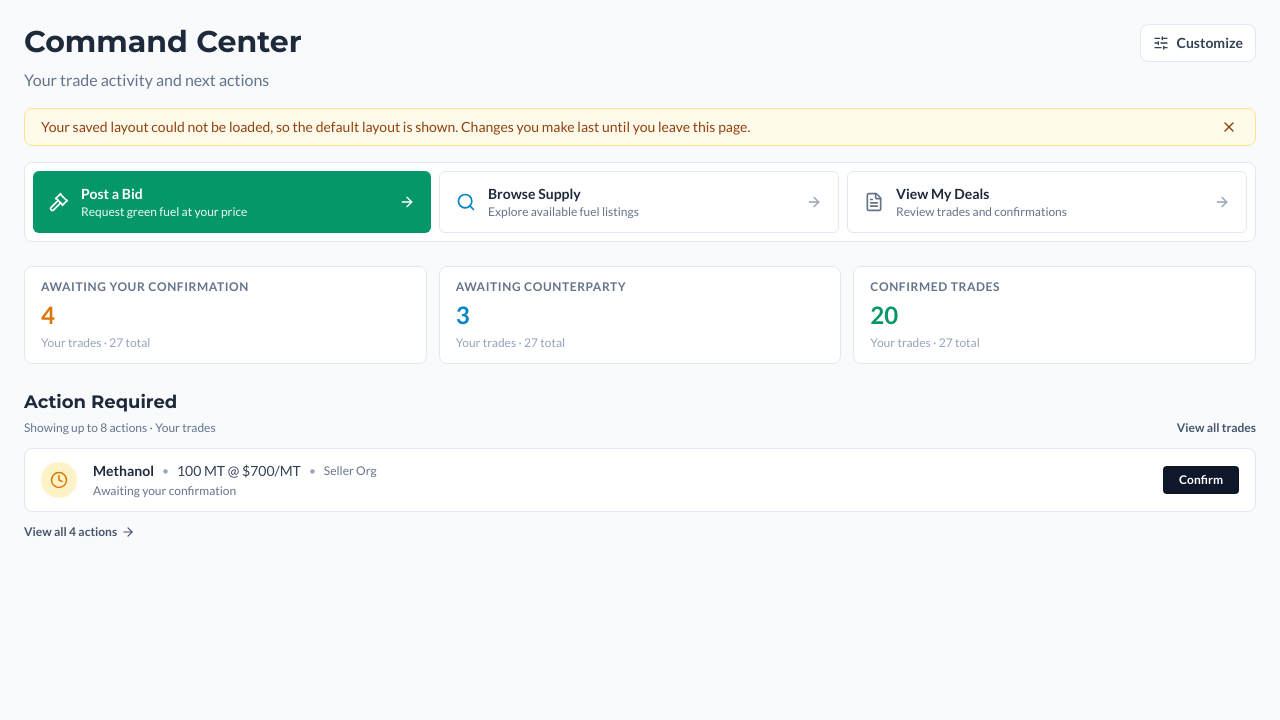
Test: Command Center trade summaries and action queue › keeps the record while the confirm outcome is unknown
Click the button "Confirm" at (1201, 480), box [1163,466,1239,494]
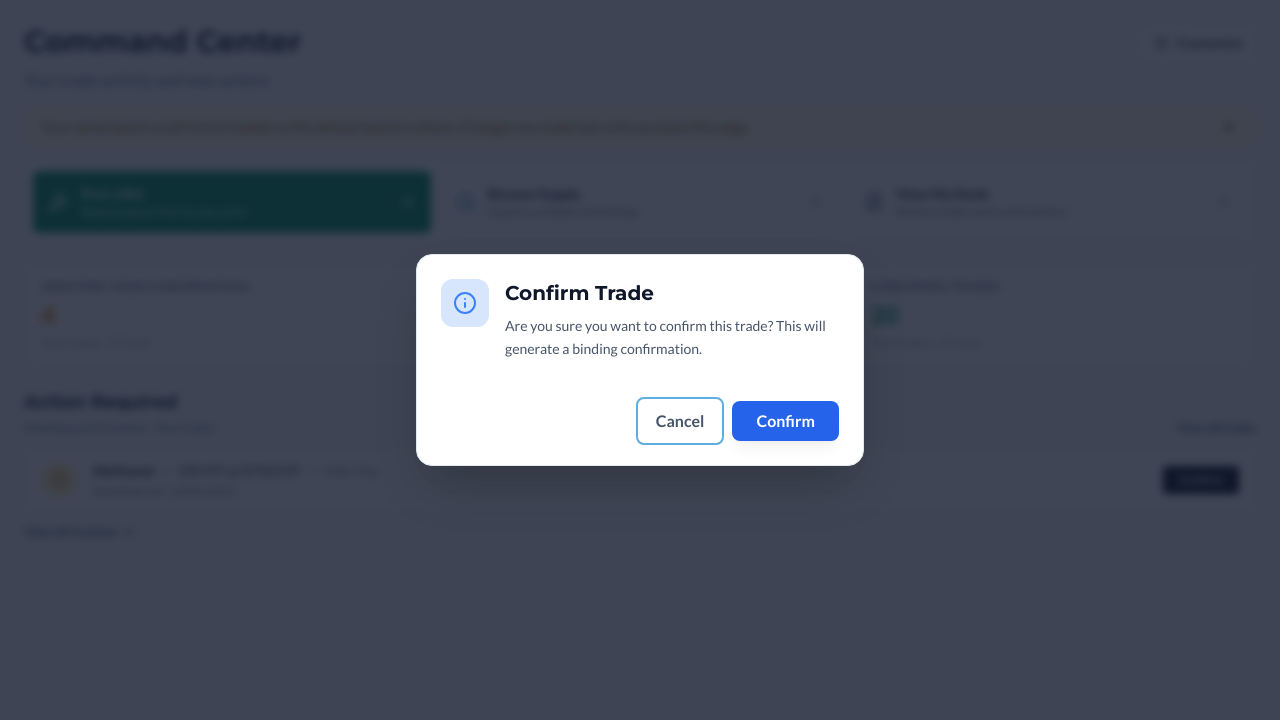
Click the button "Confirm" at (786, 421), box [732,401,839,441]
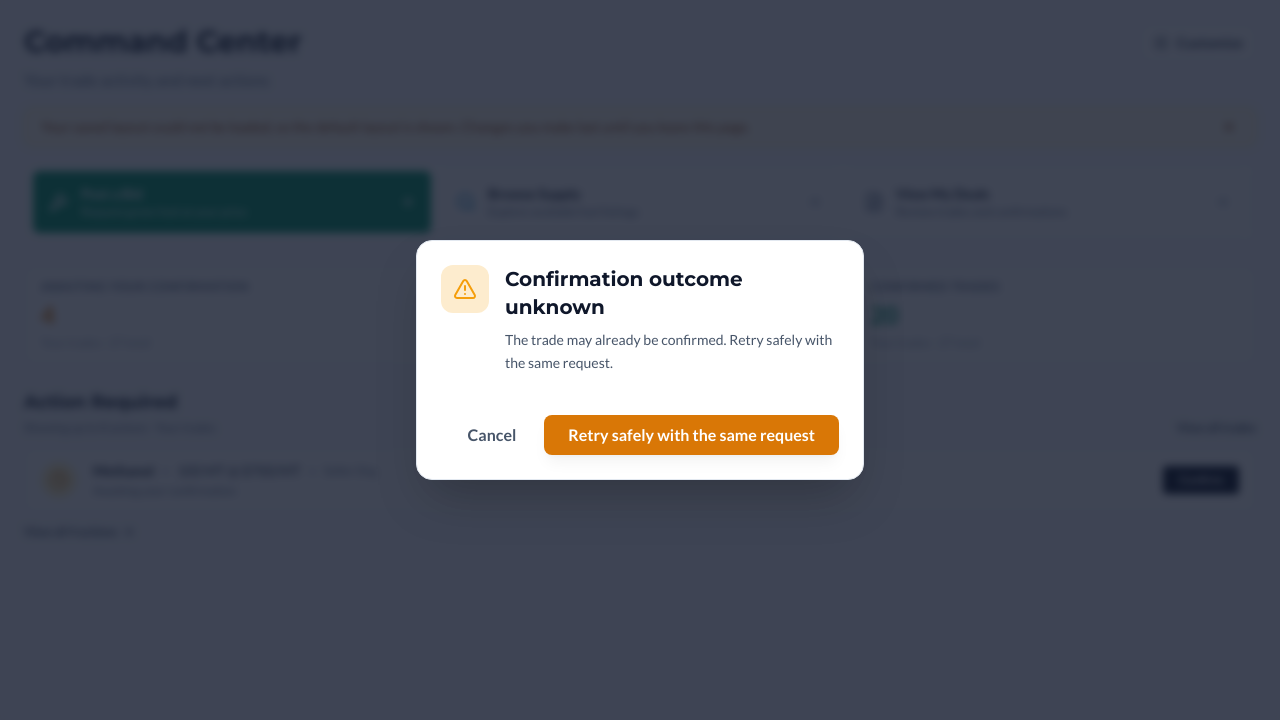
Now the button "Retry safely with the same request" is shown, box [544,415,839,455]
